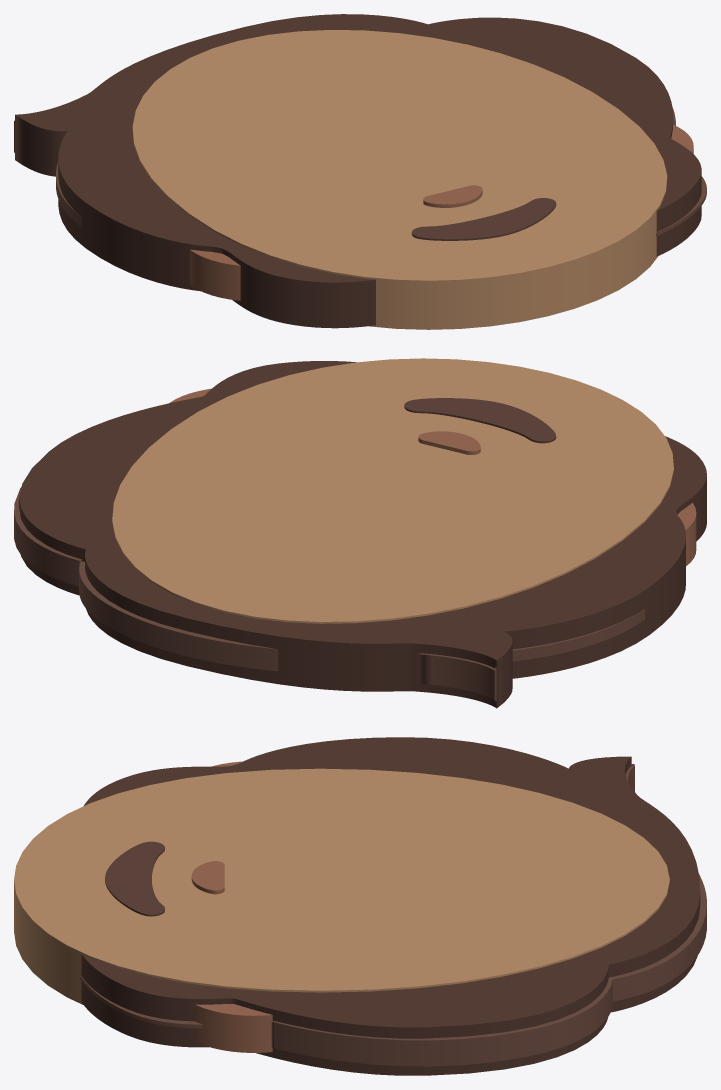
The model's file is emoji_u1f9d2_1f3fd.glb.
The picture shows the model from 3 angles, top to bottom: view 1: azimuth 30°, elevation 25°; view 2: azimuth 150°, elevation 25°; view 3: azimuth 270°, elevation 25°; orthographic projection. The views are drawn at different scales.
Parts seen in each view (by area): view 1: emoji_u1f9d2_1f3fd; view 2: emoji_u1f9d2_1f3fd; view 3: emoji_u1f9d2_1f3fd.
Boxes of the visible parts, x1,y1,x2,y2 form: emoji_u1f9d2_1f3fd: (14, 14, 706, 329); emoji_u1f9d2_1f3fd: (14, 358, 706, 708); emoji_u1f9d2_1f3fd: (14, 737, 706, 1075).
Bounding box in the file's own units: 0.0337 × 0.0032 × 0.0338.
